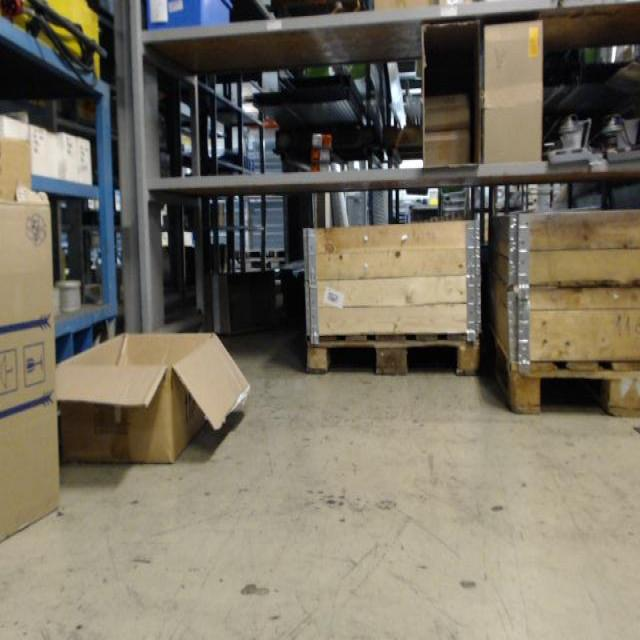pallet: (486, 324, 640, 420), (302, 328, 482, 377)
small_load_carrier: (144, 0, 234, 27)
